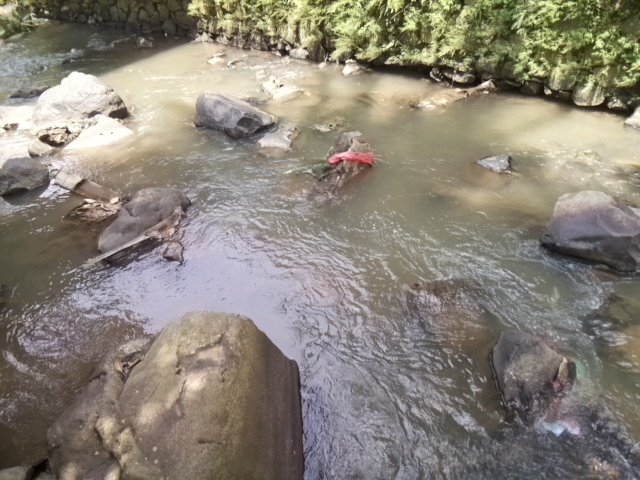Sampah_Plastik: (326, 148, 377, 168)
